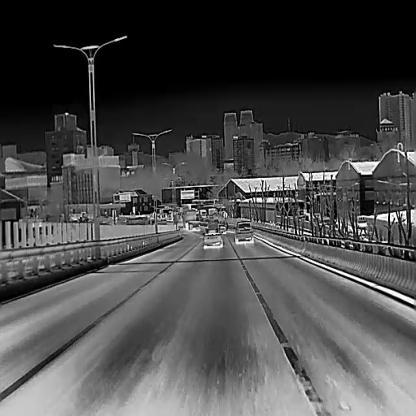car: (202, 225, 222, 247), (234, 220, 252, 241), (184, 209, 200, 229), (200, 209, 207, 216)
